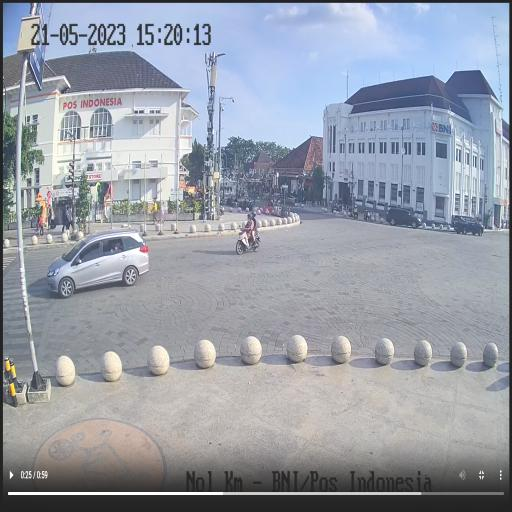mobil: (47, 230, 150, 299)
motor: (235, 221, 260, 258)
